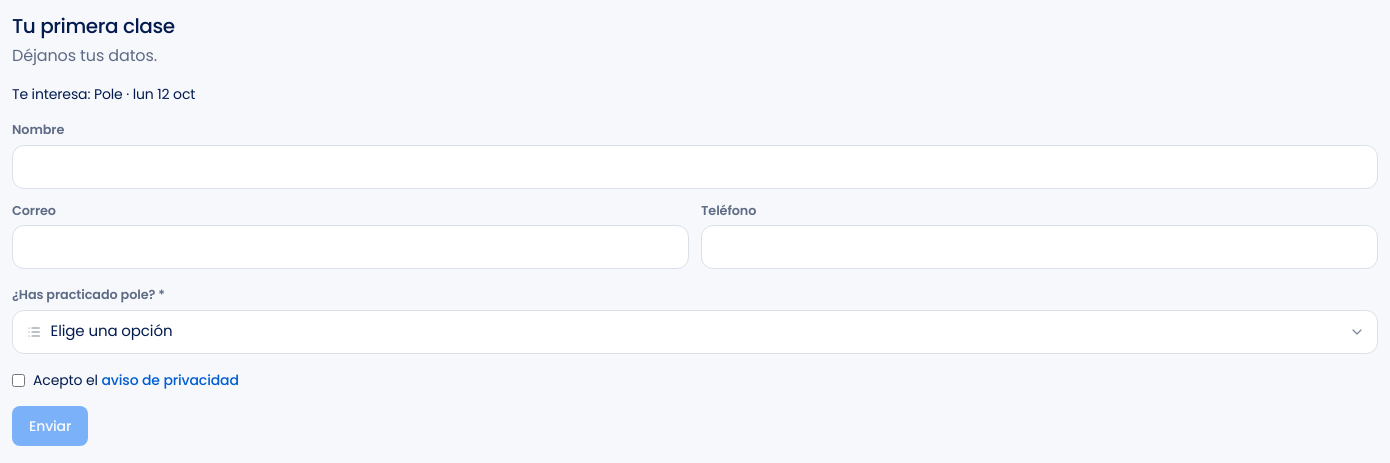
FormularioCaptacion › manda sus datos, sus respuestas, lo que le interesaba y la versión del aviso
The width and height of the screenshot is (1390, 463).
Expected: the text "Te interesa: Pole · lun 12 oct" is shown, top-left (12, 84), bottom-right (195, 104)
Expected: the submit button is disabled, top-left (12, 406), bottom-right (88, 446)
In the field labelled "Nombre": [695, 167] box top-left (12, 145), bottom-right (1378, 188), type "Lucía"
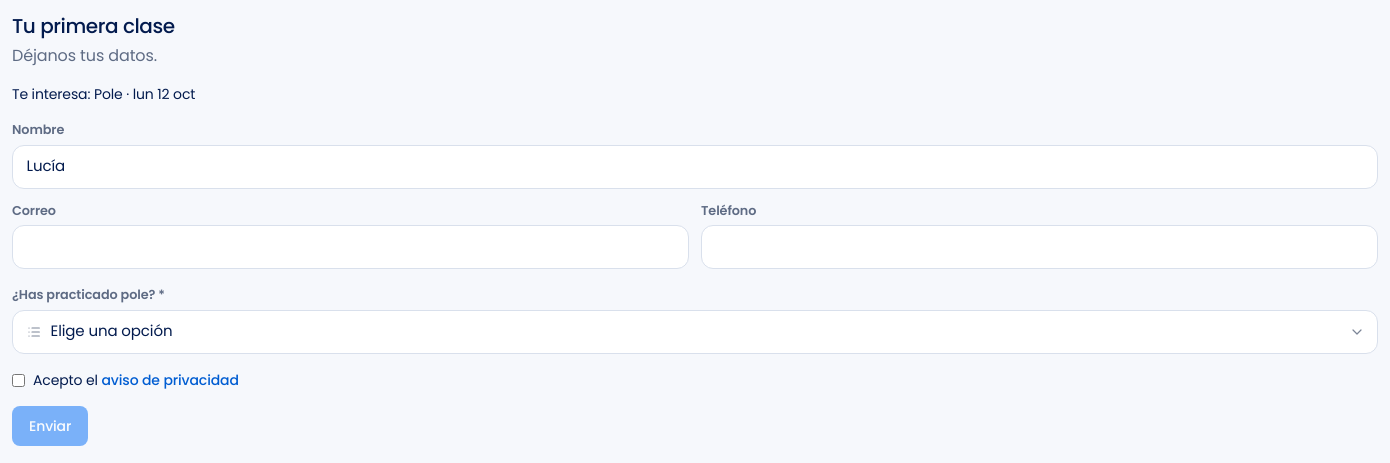
In the field labelled "Correo": [350, 247] box top-left (12, 225), bottom-right (689, 269), type "lucia@correo.mx"
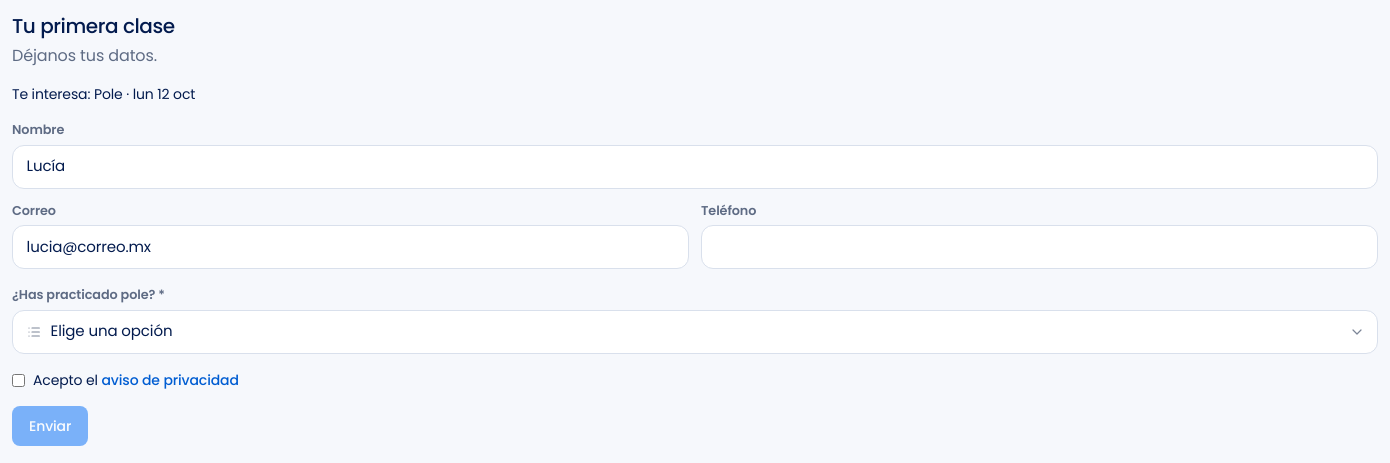
Select "Un poco" in the dropdown labelled "¿Has practicado pole? *": [695, 332] box top-left (12, 310), bottom-right (1378, 354)
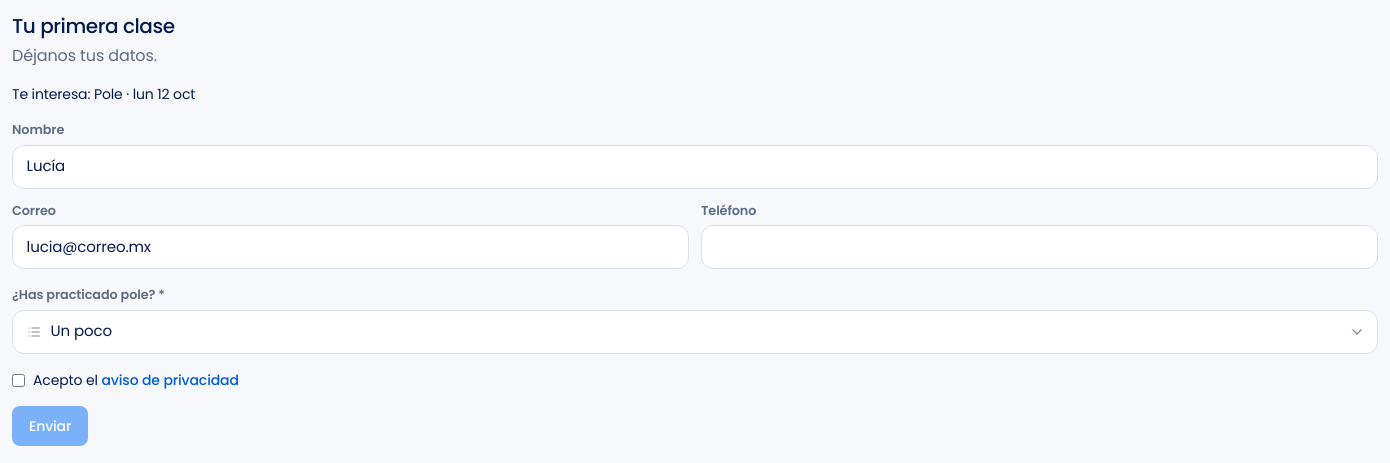
Click the checkbox labelled "Acepto el aviso de privacidad": [18, 380] box top-left (12, 374), bottom-right (25, 387)
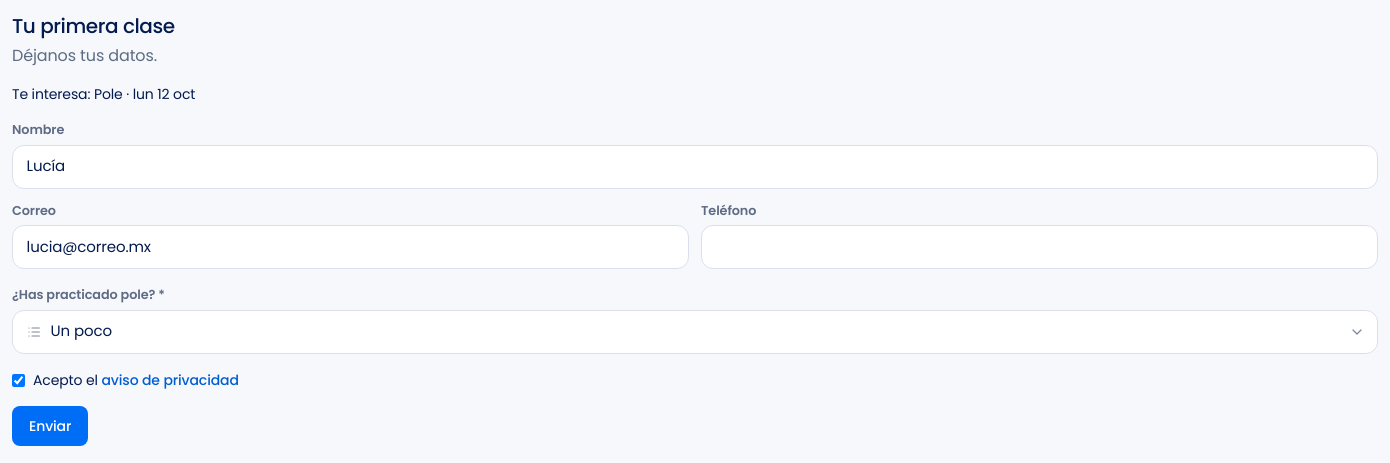
Submit the form
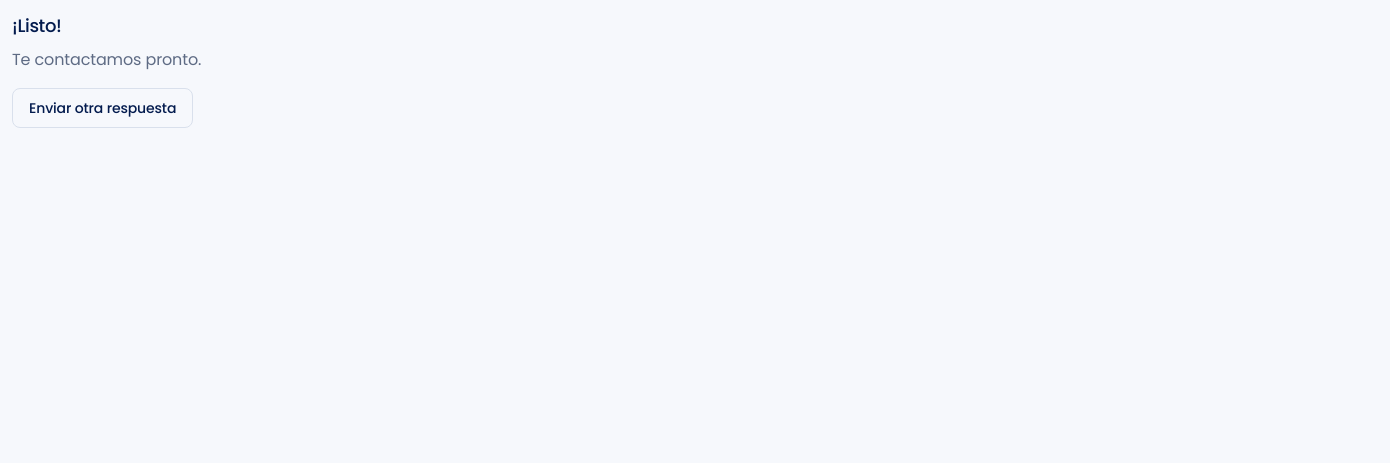
Expected: the text "Te contactamos pronto." is shown, top-left (12, 48), bottom-right (201, 71)
